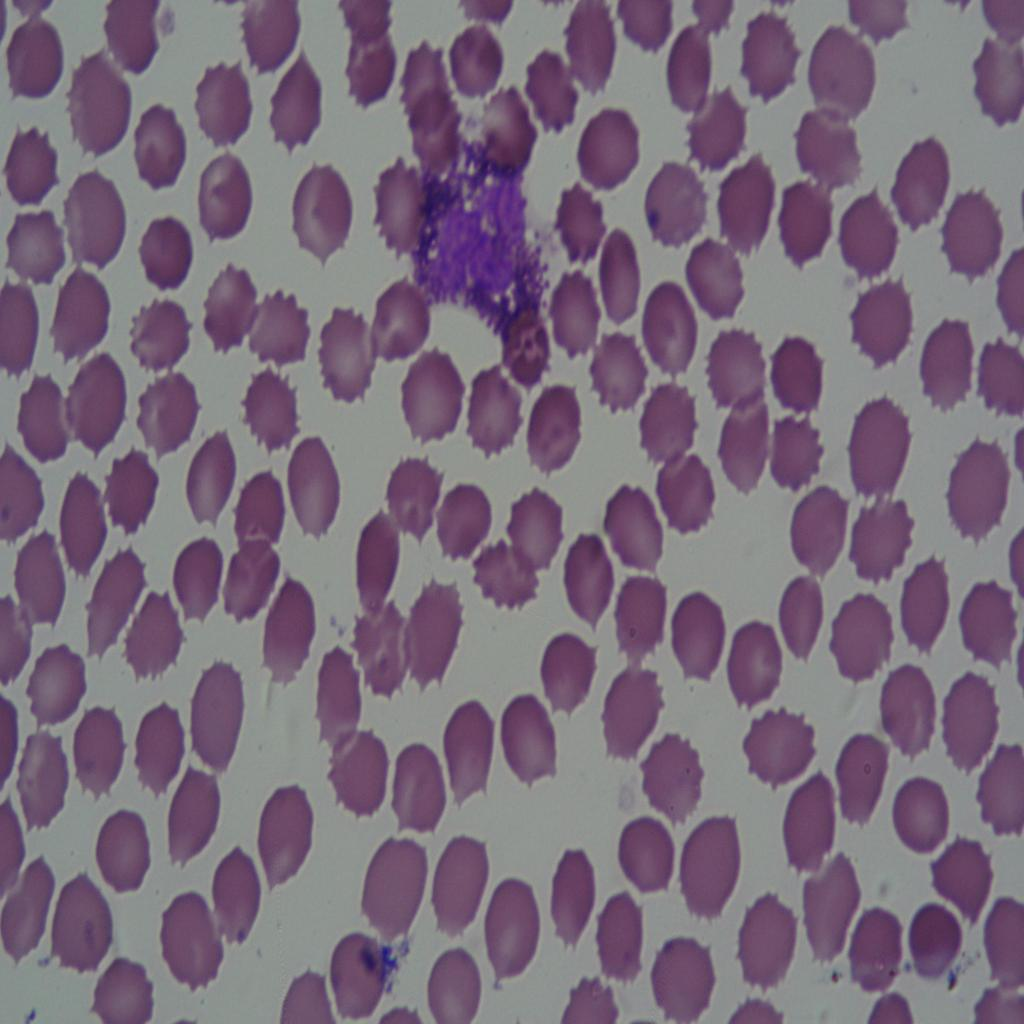Myeoblast: (412, 151, 538, 319)
